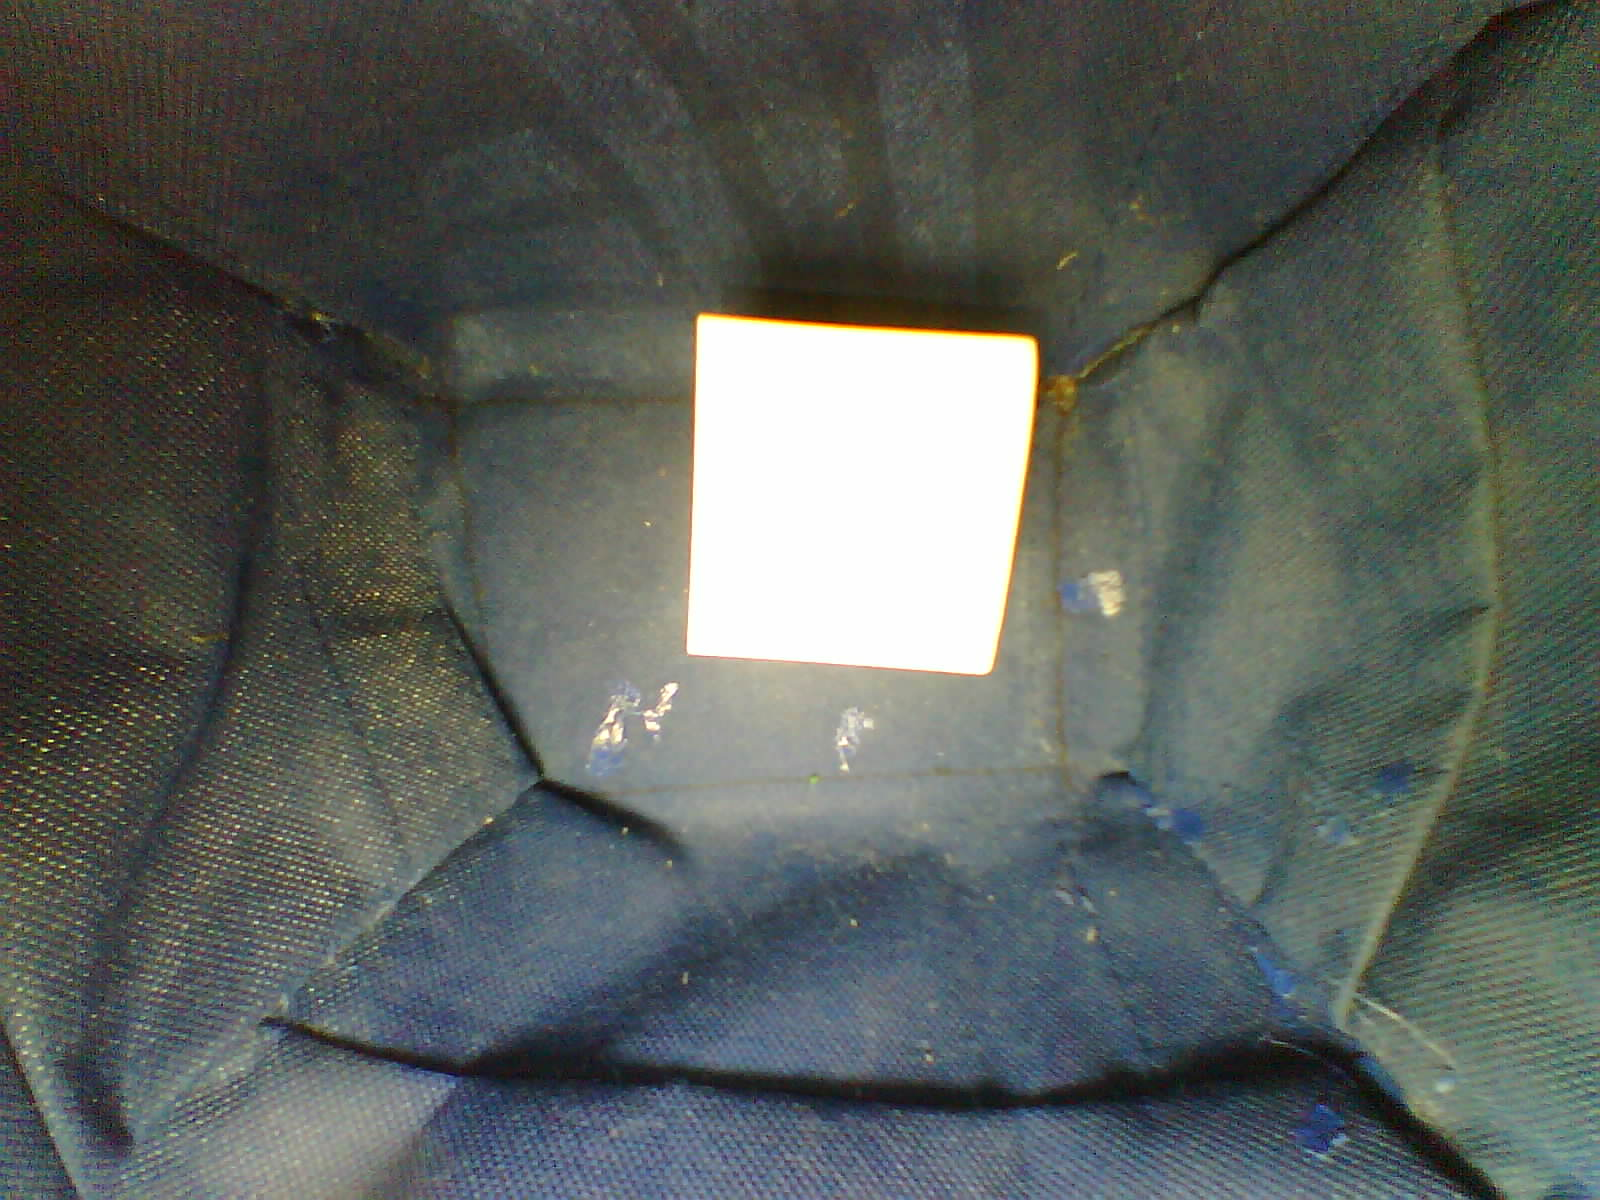cube-hard: (653, 286, 1068, 689)
